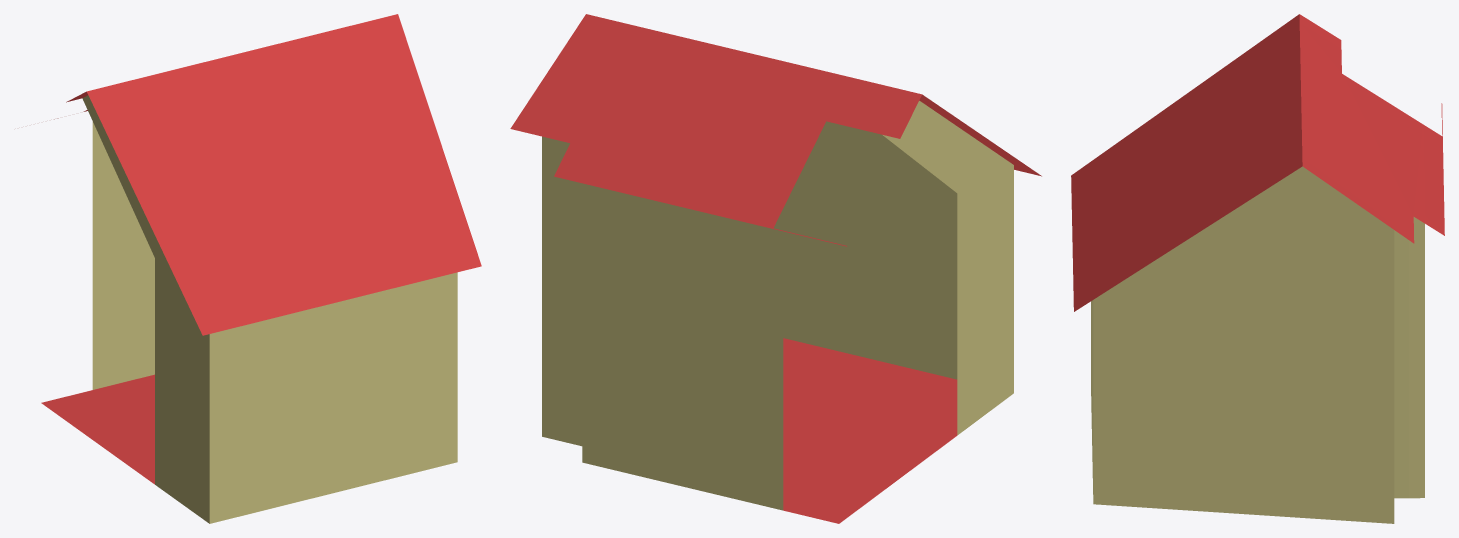
3 views of the same model, side by side, from view 1: azimuth 30°, elevation 25°; view 2: azimuth 150°, elevation 25°; view 3: azimuth 270°, elevation 25° (orthographic). The views are drawn at different scales.
Bounding box in the file's own units: 14.53 × 14.32 × 15.22.
